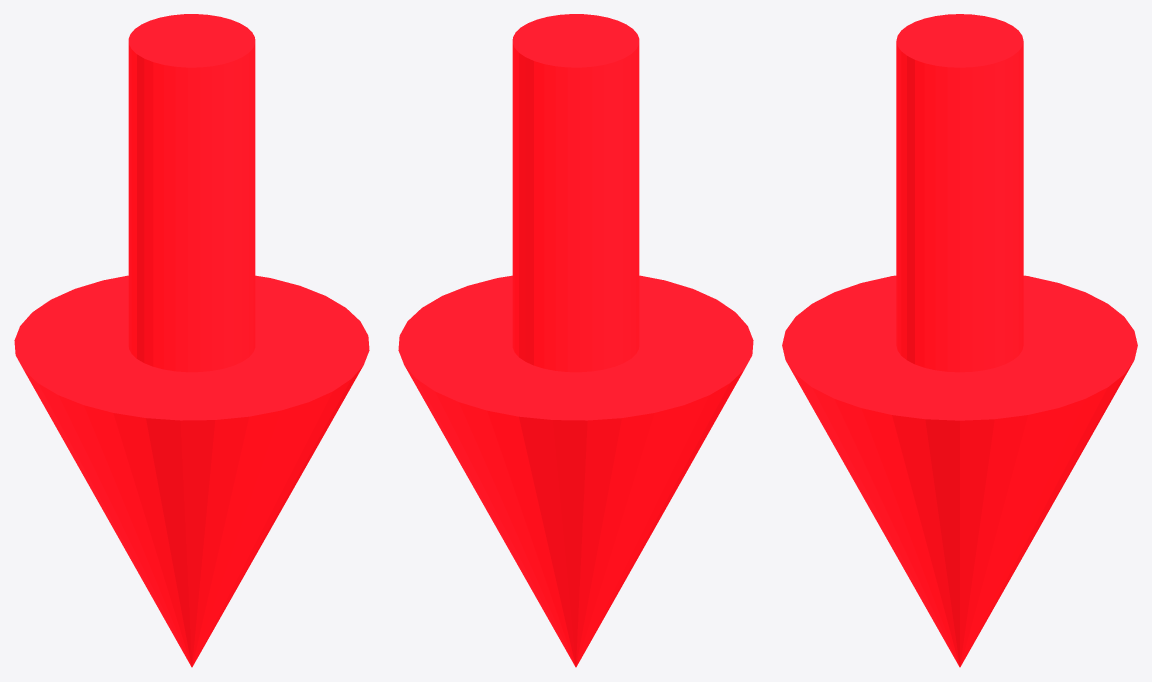
The model's file is arrow.glb.
The picture shows the model from 3 angles, left to right: view 1: azimuth 30°, elevation 25°; view 2: azimuth 150°, elevation 25°; view 3: azimuth 270°, elevation 25°; orthographic projection.
Visible parts, largest first — view 1: Cone, Cylinder; view 2: Cone, Cylinder; view 3: Cone, Cylinder.
Boxes of the visible parts, x1,y1,x2,y2 form: Cone: [14, 275, 369, 667]; Cylinder: [128, 14, 255, 372]; Cone: [398, 275, 753, 667]; Cylinder: [512, 14, 639, 372]; Cone: [782, 275, 1137, 667]; Cylinder: [896, 14, 1023, 372].
Size of the model in its own units: 0.6797 by 1.32 by 0.6797.
